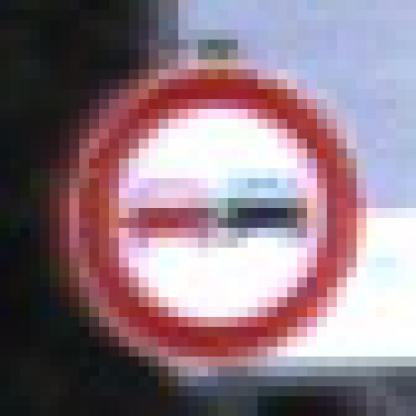No Overtaking: (61, 51, 368, 368)
